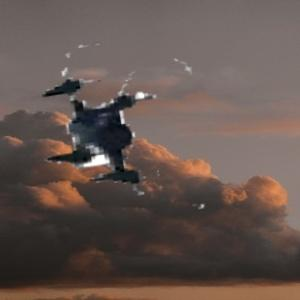drone: (18, 29, 220, 231)
